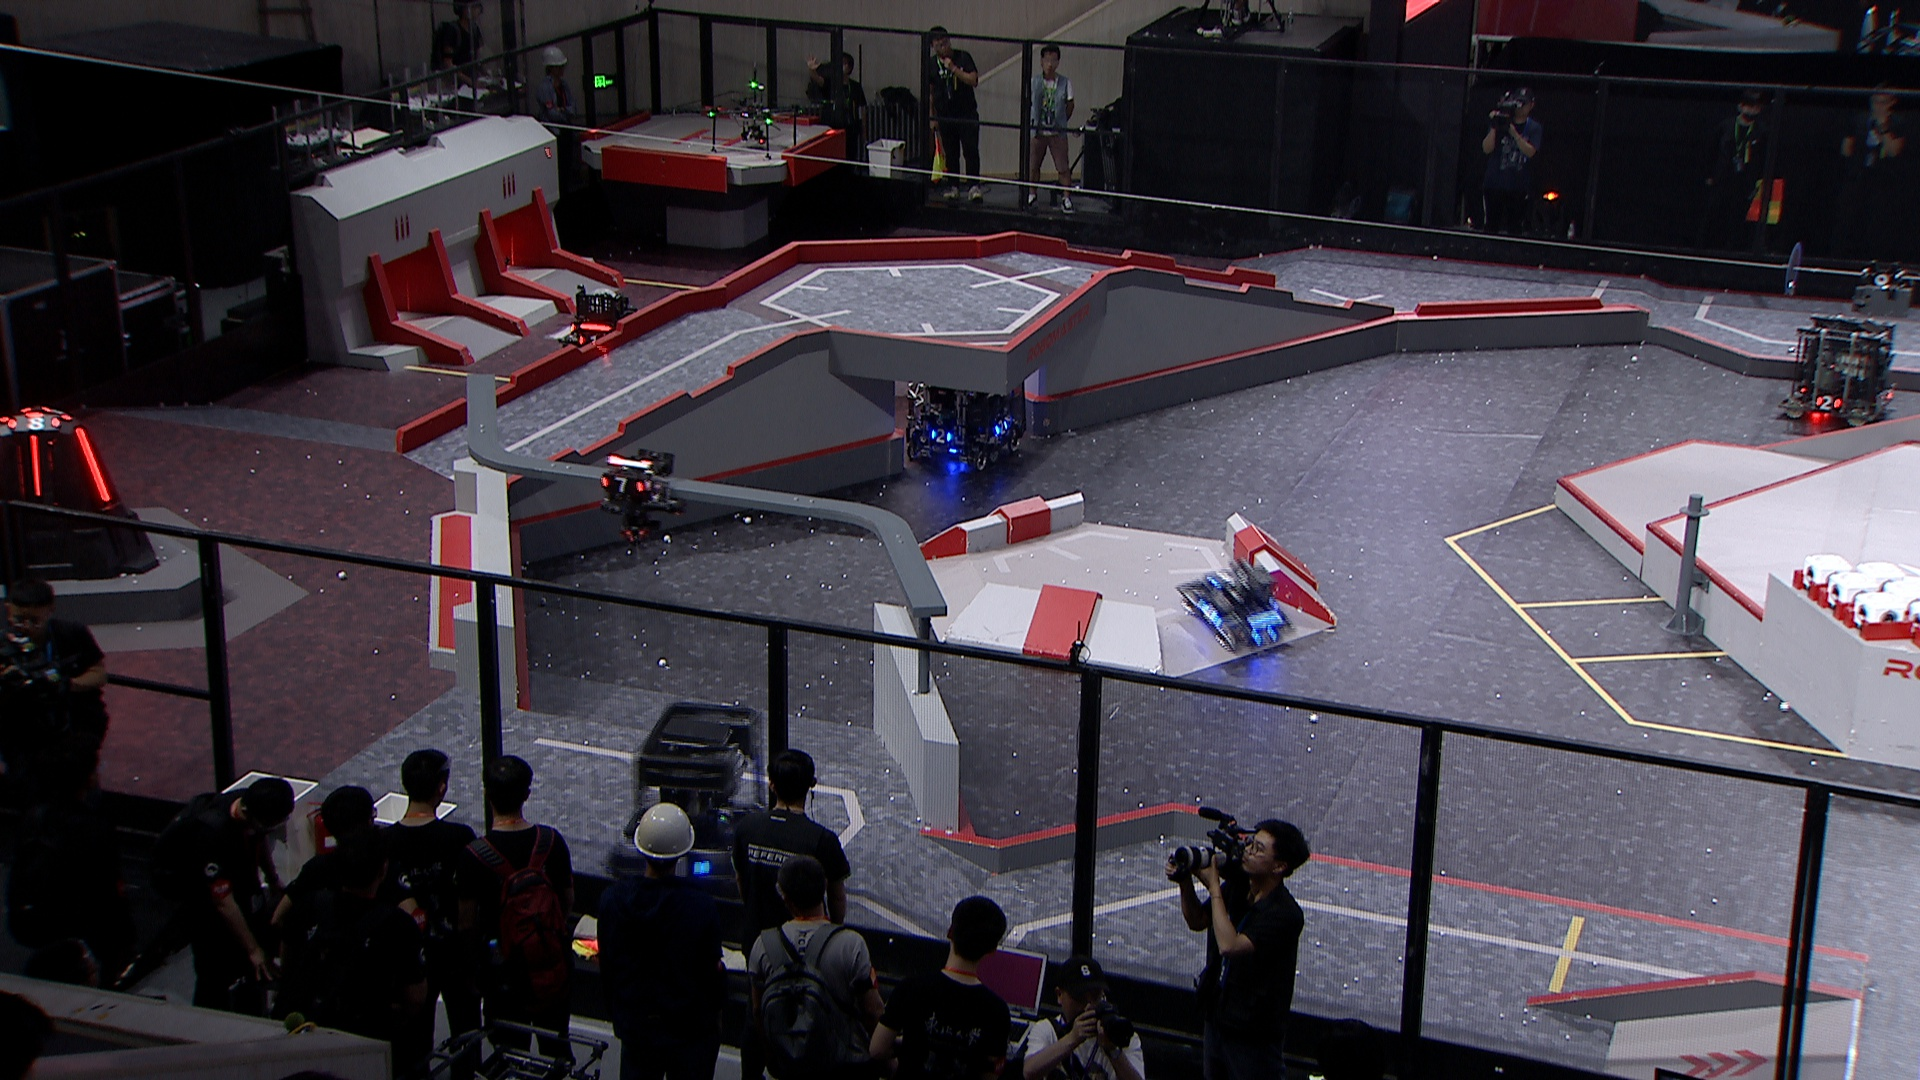armor: (73, 425, 112, 501), (669, 851, 712, 880), (26, 433, 44, 496), (599, 472, 644, 495), (8, 415, 58, 431), (1196, 603, 1218, 624), (1209, 568, 1237, 584), (1253, 622, 1278, 640), (927, 429, 953, 444), (1815, 396, 1840, 410), (575, 332, 596, 347), (994, 419, 1007, 436), (1882, 386, 1894, 404)
car: (618, 694, 787, 899), (898, 351, 1030, 476), (1779, 314, 1898, 434), (1179, 553, 1295, 655), (556, 286, 647, 368)
watcher: (596, 443, 688, 550)
